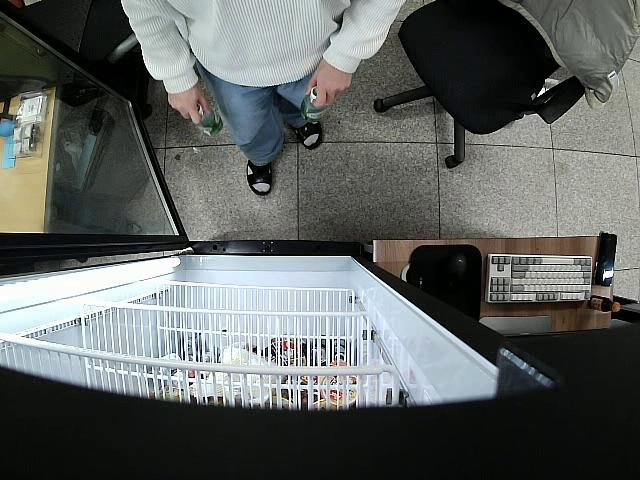00_hand: (306, 60, 352, 108), (169, 87, 210, 125)
18_trevi: (192, 101, 226, 139), (300, 84, 327, 126)
